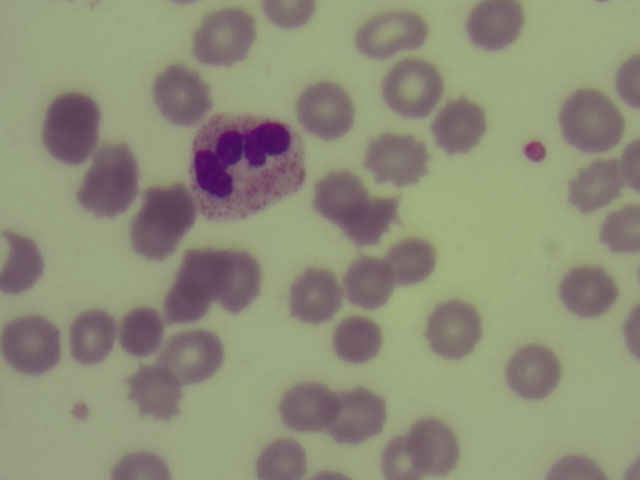Platelets: (519, 136, 550, 171), (66, 396, 95, 432)
RBC: (558, 85, 624, 150), (561, 153, 630, 211), (42, 92, 97, 164), (131, 188, 187, 257), (354, 7, 429, 56), (156, 326, 223, 379), (80, 155, 134, 219), (114, 297, 171, 354), (384, 59, 443, 113), (218, 250, 268, 313), (412, 417, 464, 471), (105, 442, 178, 480), (385, 235, 437, 288), (334, 314, 386, 367), (285, 269, 337, 322), (313, 170, 365, 223), (370, 129, 422, 182), (432, 99, 484, 152), (330, 388, 382, 441), (279, 379, 331, 432), (428, 302, 480, 355), (508, 344, 560, 397), (562, 267, 614, 320), (299, 85, 351, 138), (125, 365, 177, 418), (172, 249, 224, 302), (66, 311, 118, 364), (4, 319, 56, 372), (156, 67, 208, 120), (198, 10, 250, 63), (345, 191, 397, 244), (342, 257, 394, 310), (594, 201, 640, 260), (466, 1, 518, 53), (1, 231, 43, 294), (256, 437, 311, 480), (381, 428, 420, 480), (611, 51, 640, 112), (260, 1, 314, 33), (545, 451, 603, 479)
WBC: (189, 113, 305, 220)
